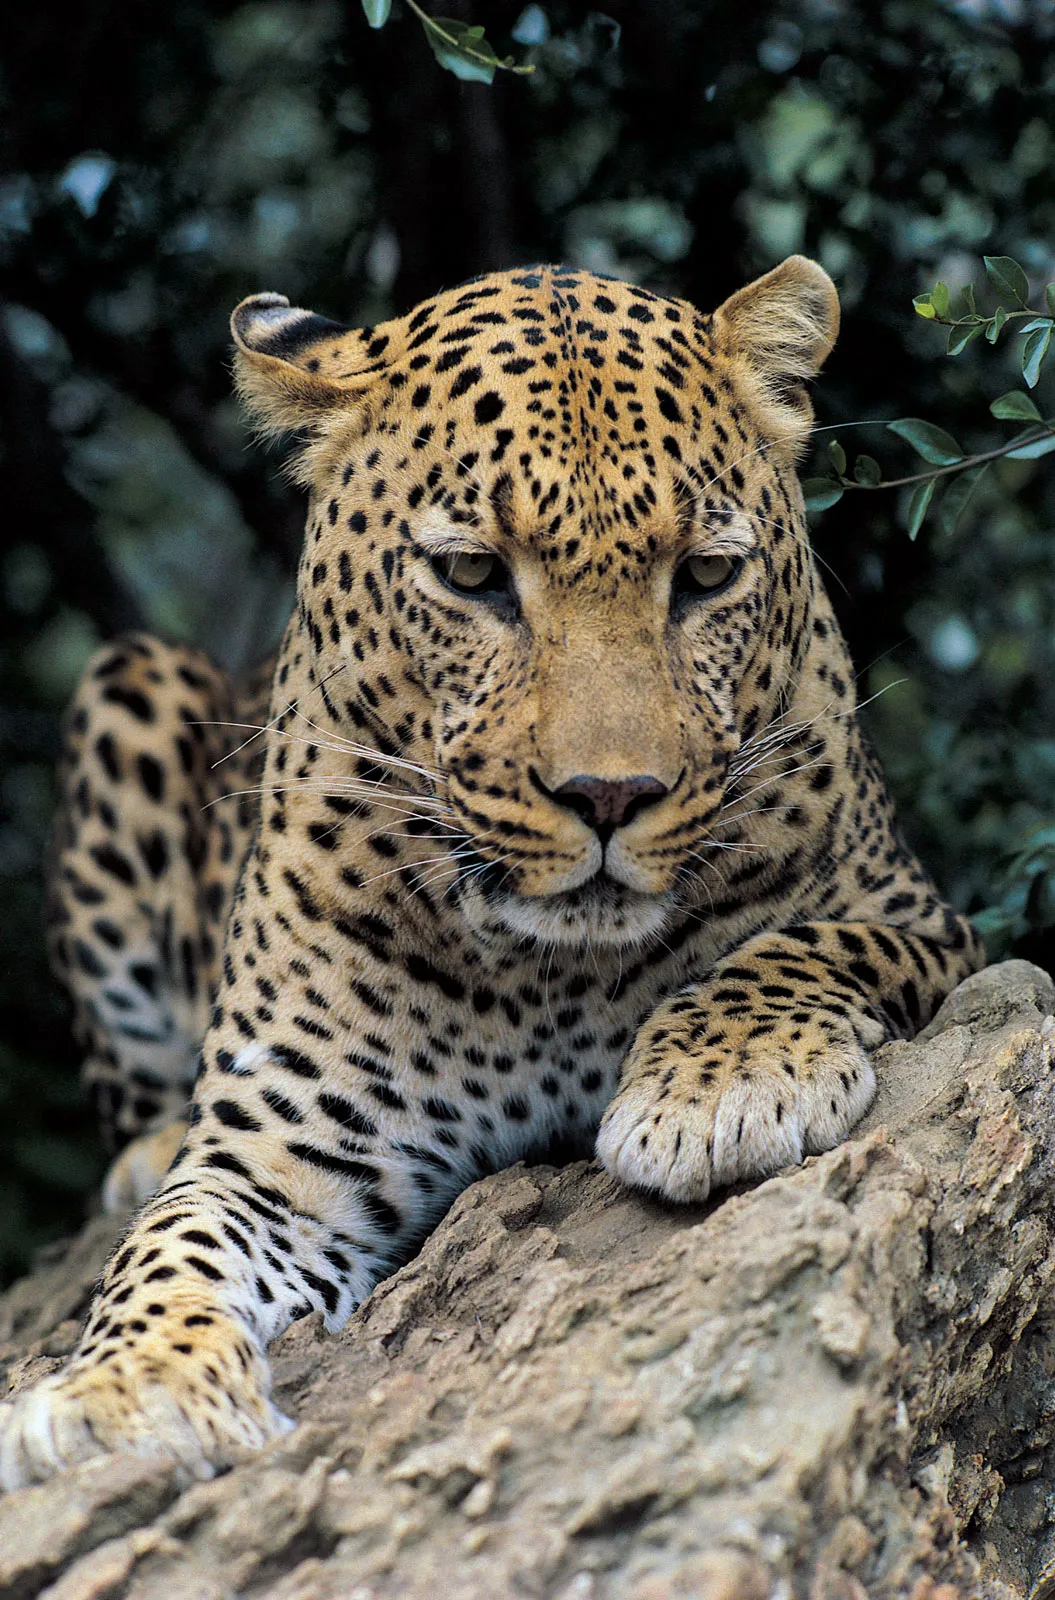Leopard: (21, 251, 991, 1479)
